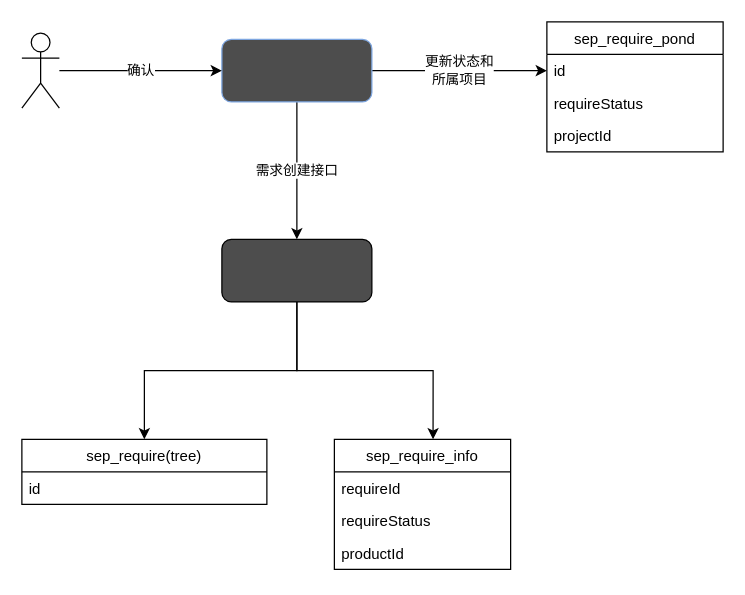
Some shapes in this 745 by 595 pixel diagram are drawn without their labels. The centre of each missing label's shape, as x and y in pixels:
"SEP产研需求 Service" goes at (x=296, y=270).
"需求池 Service" goes at (x=296, y=70).
